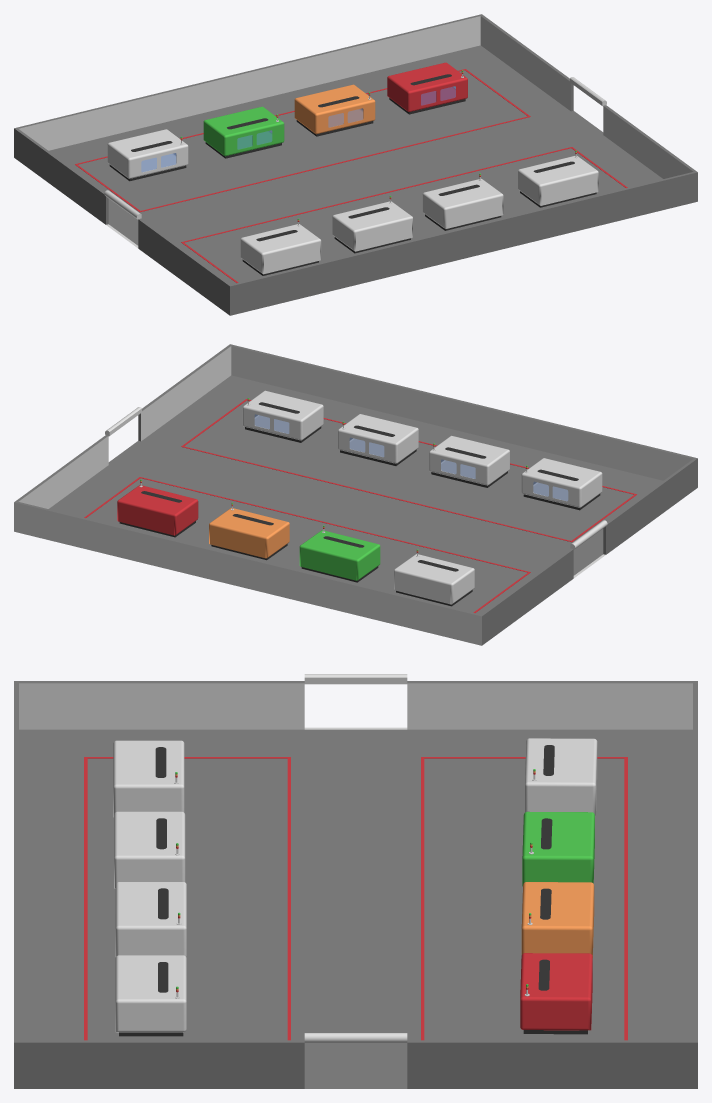
Rendered from 工厂色.gltf.
The picture shows the model from 3 angles, top to bottom: view 1: azimuth 30°, elevation 25°; view 2: azimuth 150°, elevation 25°; view 3: azimuth 270°, elevation 25°; orthographic projection. The views are drawn at different scales.
Visible parts, largest first — view 1: 墙体, 机器2, 机器6, 机器8, 机器4, 机器3, 机器5, 机器7, 机器1, 地线1, 地线2; view 2: 墙体, 机器8, 机器1, 机器3, 机器5, 机器2, 机器7, 机器4, 机器6, 地线2, 地线1; view 3: 墙体, 机器5, 机器1, 机器4, 机器6, 机器2, 机器8, 机器7, 机器3, 地线2, 地线1, 门框2 (+1 smaller).
Boxes of the visible parts, x1,y1,x2,y2 form: 墙体: [14, 14, 697, 315]; 机器2: [294, 84, 375, 136]; 机器6: [422, 178, 503, 230]; 机器8: [240, 224, 321, 275]; 机器4: [107, 129, 188, 181]; 机器3: [203, 106, 284, 158]; 机器5: [518, 155, 598, 207]; 机器7: [332, 201, 412, 253]; 机器1: [387, 62, 467, 114]; 地线1: [75, 69, 530, 212]; 地线2: [181, 147, 627, 282]; 墙体: [14, 344, 697, 645]; 机器8: [521, 458, 602, 510]; 机器1: [117, 485, 198, 537]; 机器3: [299, 530, 380, 582]; 机器5: [242, 390, 323, 442]; 机器2: [209, 508, 289, 560]; 机器7: [429, 435, 509, 487]; 机器4: [394, 554, 474, 606]; 机器6: [338, 414, 418, 465]; 地线2: [181, 399, 636, 542]; 地线1: [84, 477, 530, 612]; 墙体: [14, 681, 697, 1088]; 机器5: [115, 955, 186, 1036]; 机器1: [520, 953, 592, 1034]; 机器4: [525, 738, 597, 815]; 机器6: [115, 882, 186, 956]; 机器2: [521, 882, 594, 957]; 机器8: [113, 740, 184, 817]; 机器7: [114, 811, 185, 888]; 机器3: [522, 811, 594, 886]; 地线2: [84, 757, 290, 1040]; 地线1: [421, 757, 627, 1040]; 门框2: [304, 674, 407, 684].
Bounding box in the file's own units: 25.13 × 1.75 × 20.
